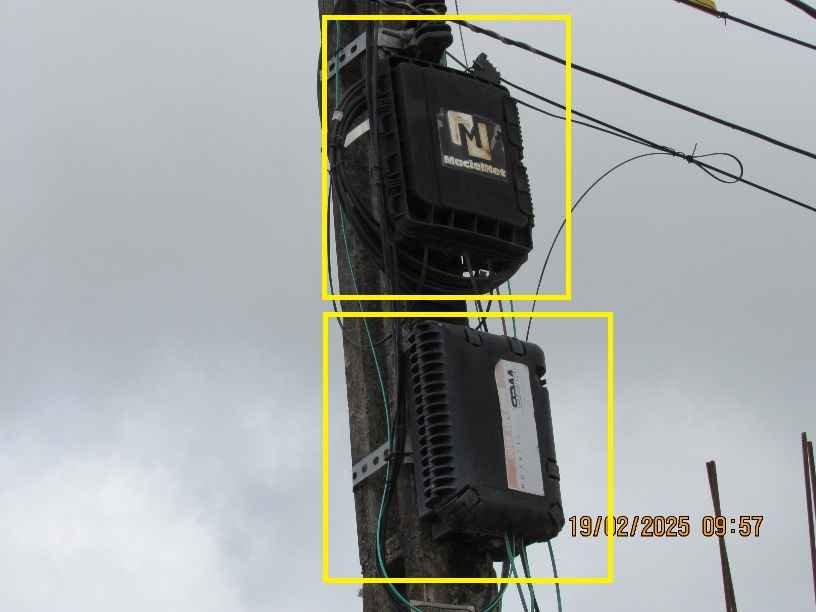caixa_derivacao: (355, 46, 547, 278), (401, 322, 571, 556)
poste: (313, 8, 498, 609)
